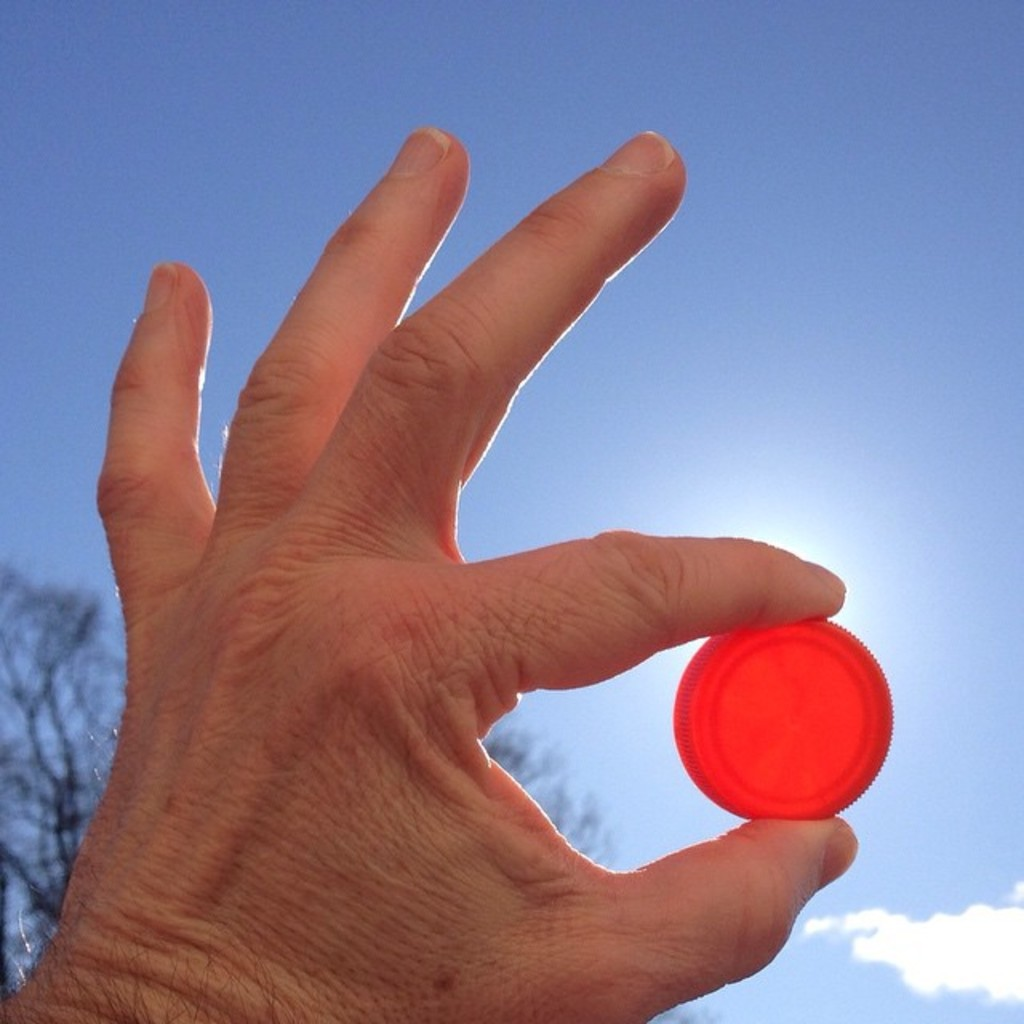Person: (0, 126, 860, 1024)
